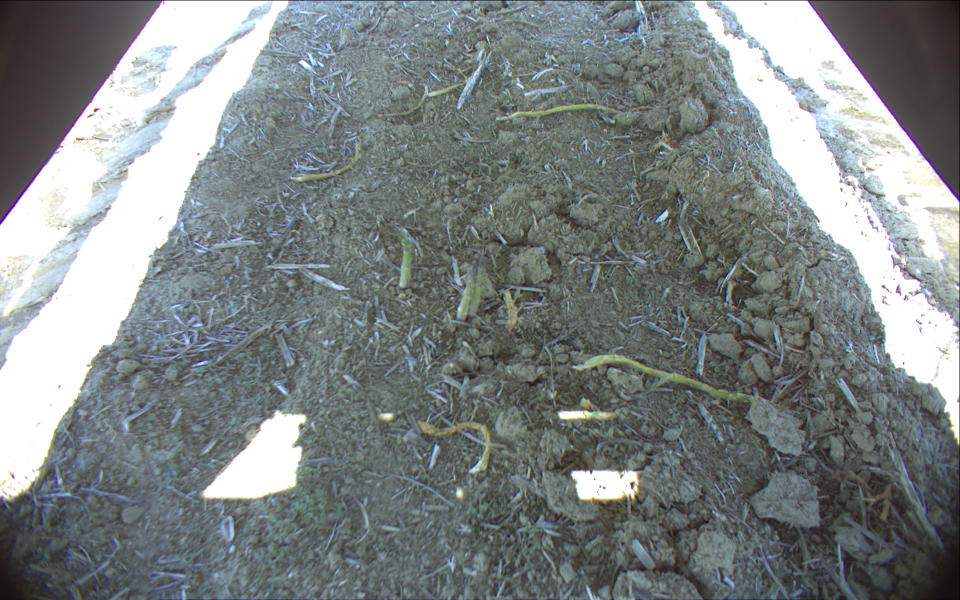aspa: (465, 254, 488, 321), (454, 262, 477, 325), (393, 226, 414, 294)
